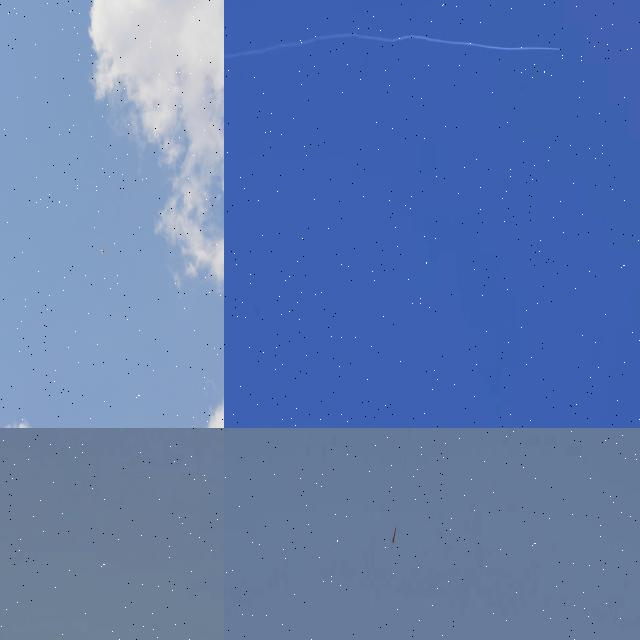Rocket: (392, 527, 396, 543), (100, 249, 105, 254), (558, 48, 560, 50)
